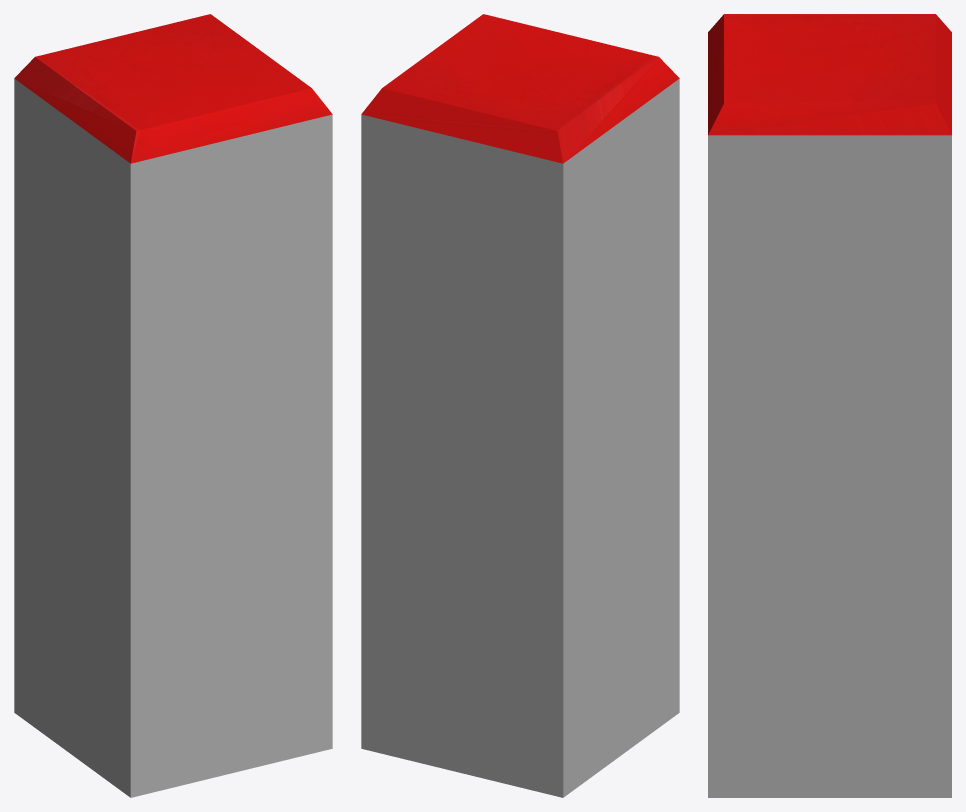
3 views of the same model, side by side, from view 1: azimuth 30°, elevation 25°; view 2: azimuth 150°, elevation 25°; view 3: azimuth 270°, elevation 25° (orthographic). The views are drawn at different scales.
Visible parts, largest first — view 1: 580310; view 2: 580310; view 3: 580310.
Part boxes in pixels (box(x1,y1,x2,y2)): 580310: box(14, 14, 332, 797); 580310: box(361, 14, 679, 797); 580310: box(708, 14, 951, 797).
Size of the model in its own units: 0.2 by 0.6226 by 0.2.
Materials: 2 (1 with a texture image).
